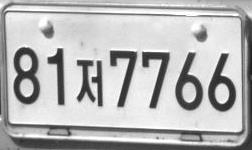1: (45, 47, 72, 105)
6: (174, 51, 204, 111), (207, 52, 236, 113)
7: (109, 49, 138, 108), (141, 51, 170, 109)
8: (12, 45, 41, 105)
저: (75, 59, 104, 106)
